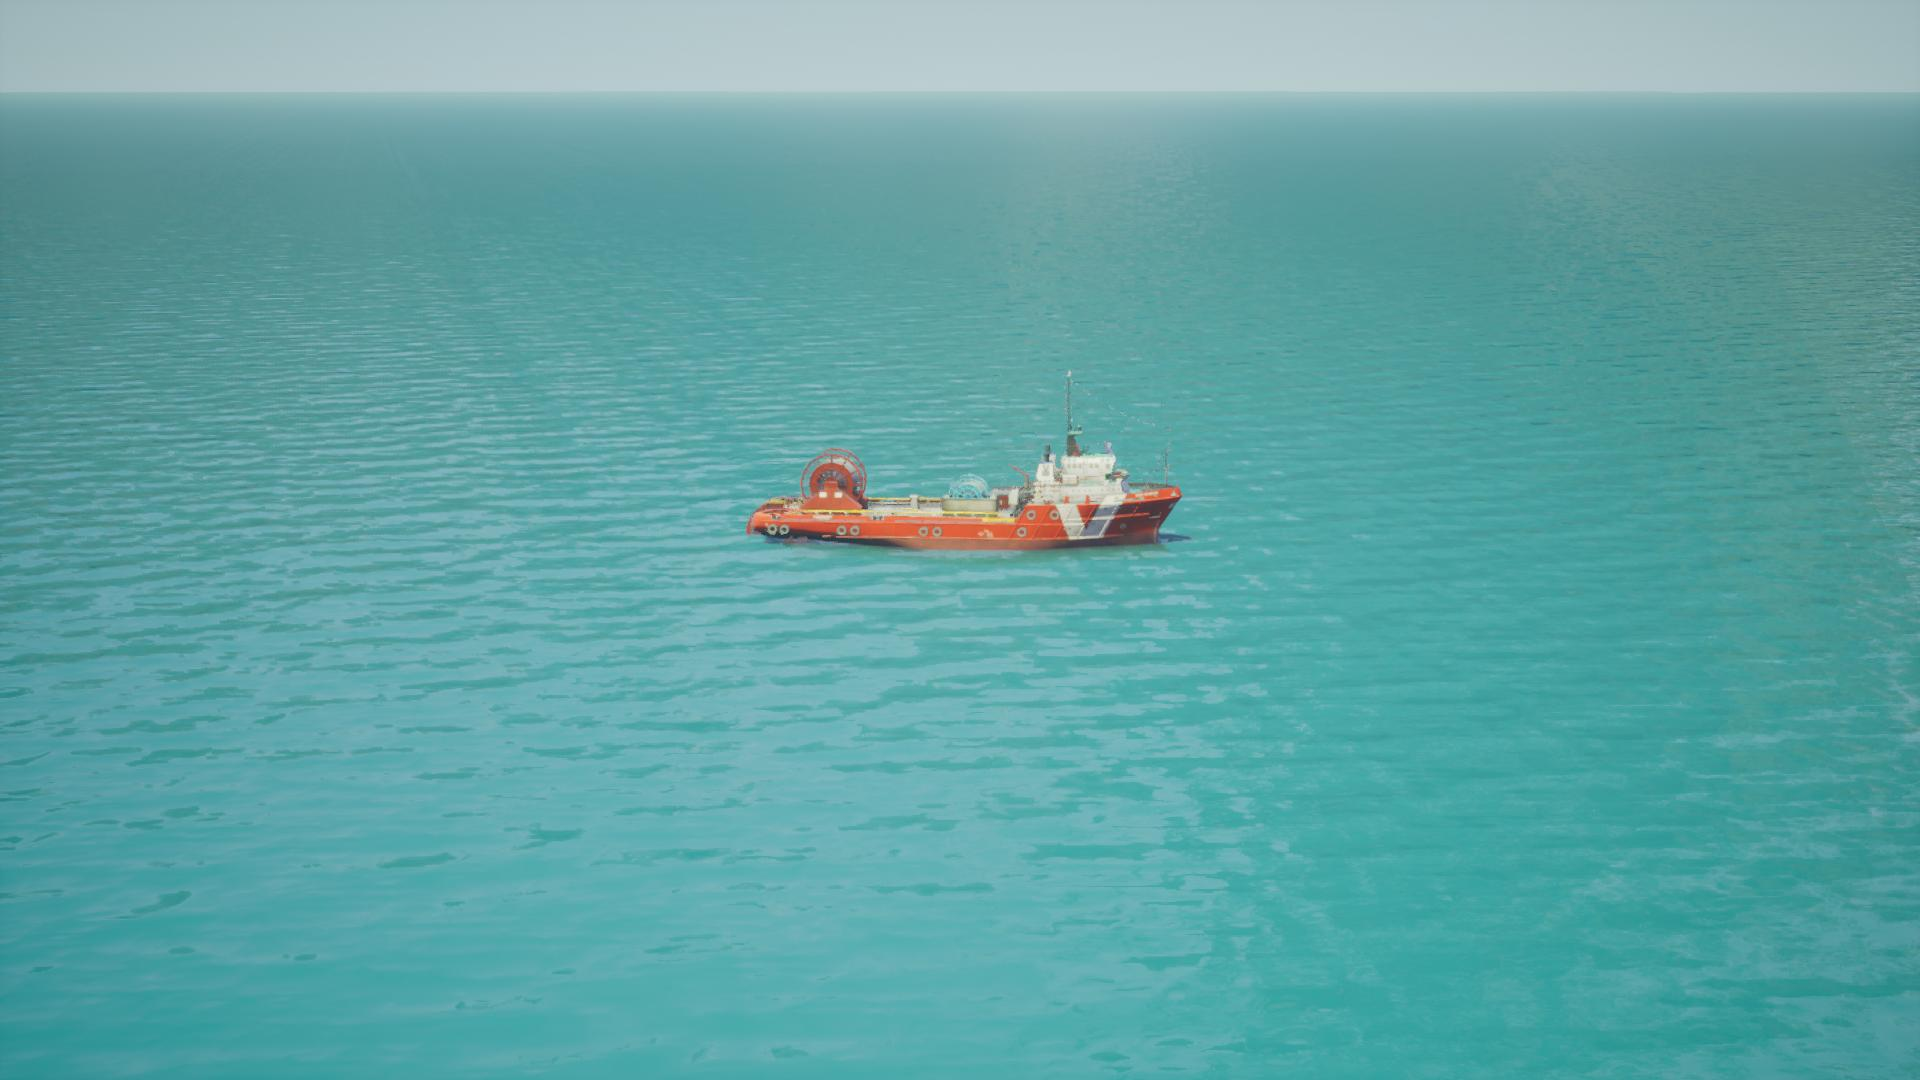Tug Boat: (741, 375, 1189, 558)
